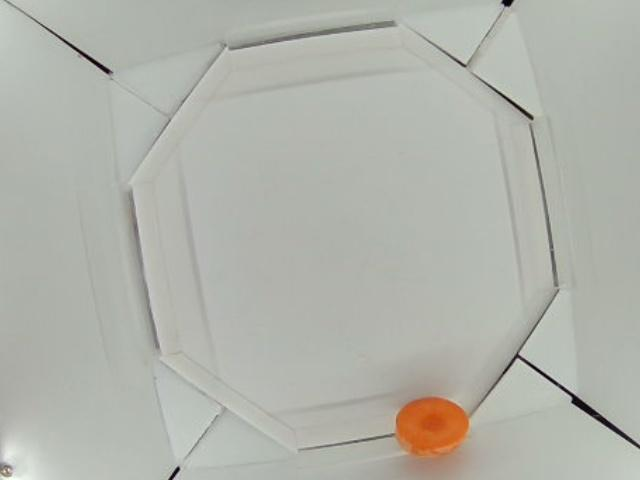Carrot: (395, 397, 469, 456)
